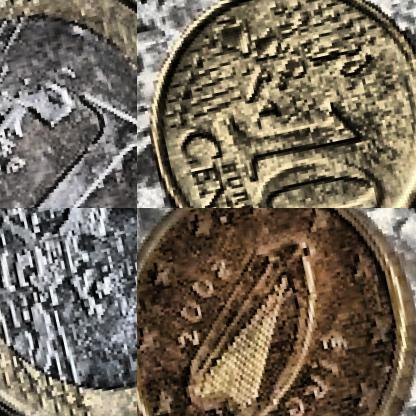coin: (137, 0, 415, 207), (137, 208, 415, 415), (0, 0, 136, 207), (0, 208, 136, 415)
